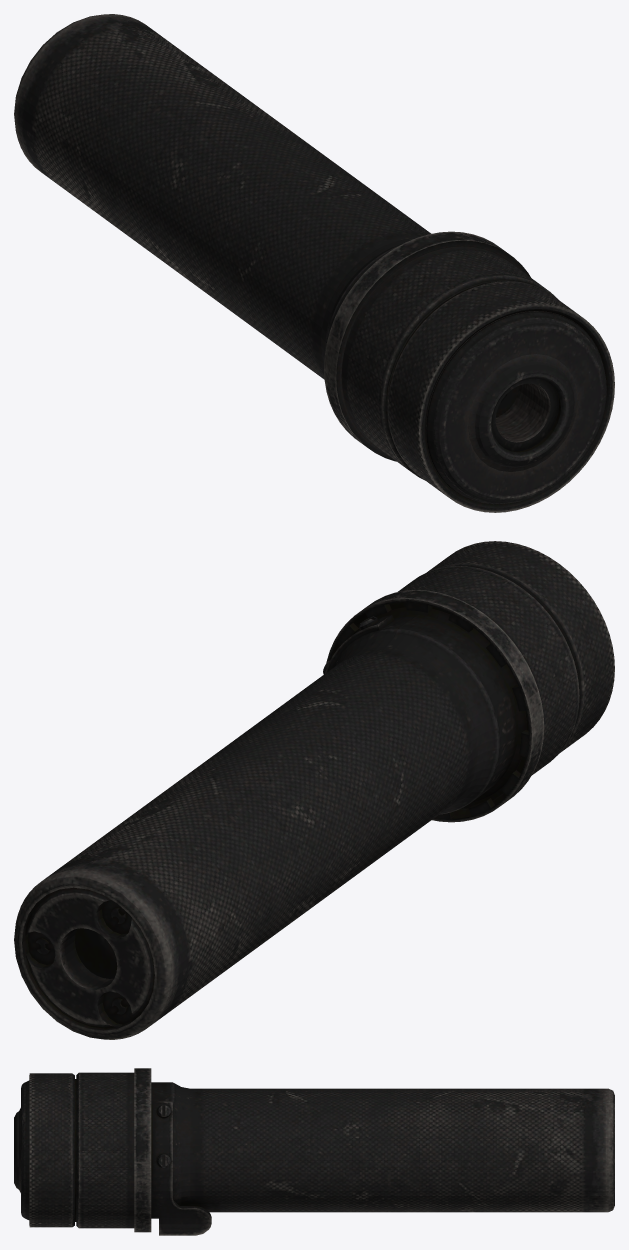
The picture shows the model from 3 angles, top to bottom: view 1: azimuth 30°, elevation 25°; view 2: azimuth 150°, elevation 25°; view 3: azimuth 270°, elevation 25°; orthographic projection. The views are drawn at different scales.
Parts seen in each view (by area): view 1: TW_5a0d63621526d8dba31fe3bf_PZ_Import; view 2: TW_5a0d63621526d8dba31fe3bf_PZ_Import; view 3: TW_5a0d63621526d8dba31fe3bf_PZ_Import.
Part boxes in pixels (bbox=[...]): TW_5a0d63621526d8dba31fe3bf_PZ_Import: bbox=[14, 14, 614, 512]; TW_5a0d63621526d8dba31fe3bf_PZ_Import: bbox=[14, 541, 614, 1039]; TW_5a0d63621526d8dba31fe3bf_PZ_Import: bbox=[14, 1068, 614, 1235].
Size of the model in its own units: 0.0305 by 0.1118 by 0.0305.
1 material, 1 textured.
